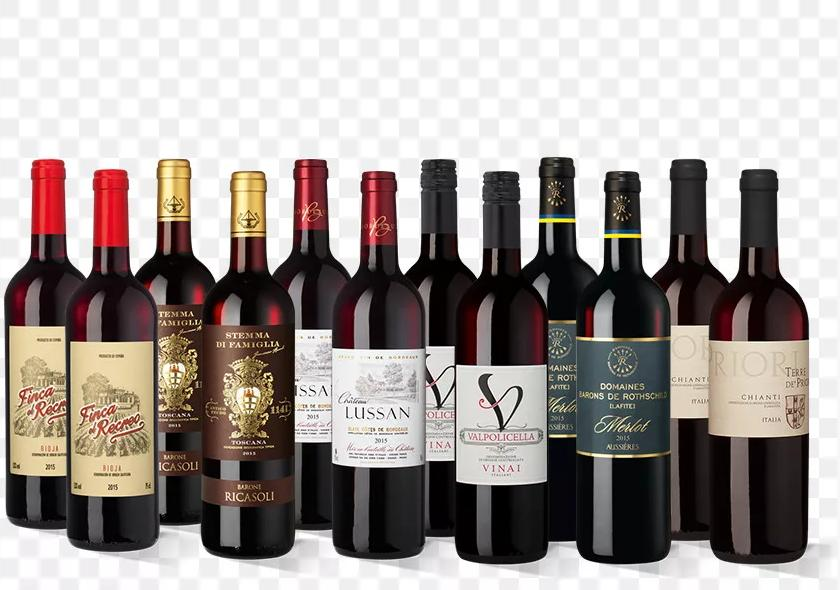wine bottle: (709, 170, 808, 564), (575, 170, 672, 564), (454, 172, 548, 565), (201, 170, 295, 560), (332, 170, 426, 560), (65, 169, 160, 554), (4, 158, 87, 531), (134, 158, 217, 526), (651, 159, 730, 541), (273, 157, 352, 530), (522, 157, 598, 542), (403, 158, 477, 538)
wine label: (69, 341, 154, 497), (202, 324, 294, 462), (575, 337, 671, 458), (456, 363, 548, 486), (335, 348, 426, 468), (708, 339, 809, 438), (8, 325, 66, 480), (157, 303, 202, 433), (297, 329, 335, 444), (672, 324, 711, 418), (426, 344, 456, 462), (550, 321, 576, 438)
